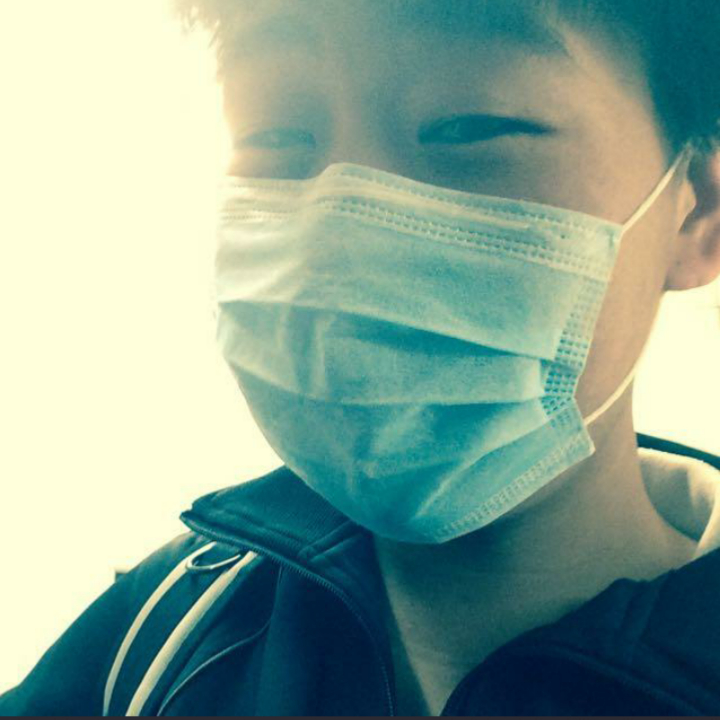face_mask: (222, 1, 639, 515)
